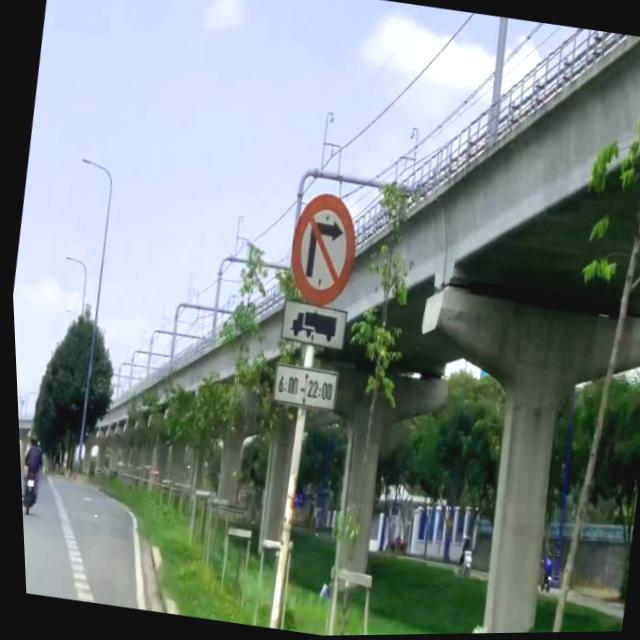Cam re phai: (278, 188, 364, 314)
